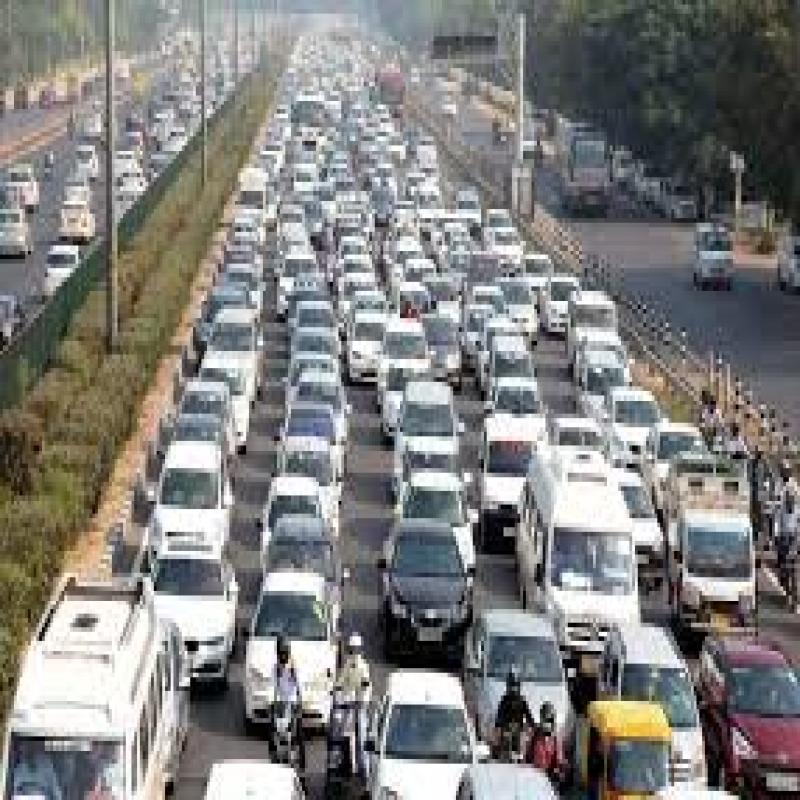car: (17, 535, 188, 800), (610, 609, 706, 788), (710, 614, 800, 796), (138, 516, 236, 683), (476, 602, 569, 760), (252, 565, 343, 725), (370, 520, 470, 637), (157, 429, 233, 554), (397, 378, 476, 475), (483, 413, 536, 547)
